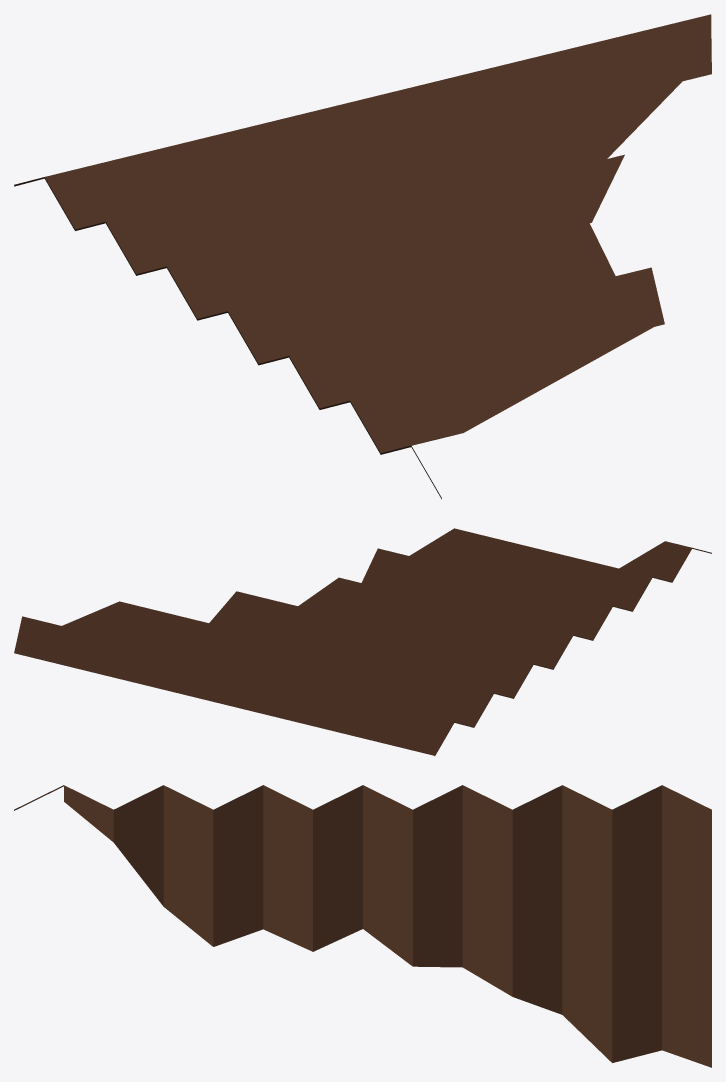
File: scrap1.fbx
3 renders of one model, top to bottom at view 1: azimuth 30°, elevation 25°; view 2: azimuth 150°, elevation 25°; view 3: azimuth 270°, elevation 25°, orthographic. The views are drawn at different scales.
Visible parts, largest first — view 1: part2; view 2: part2; view 3: part2.
Boxes of the visible parts, left/top/right/bottom form: part2: left=14, top=14, right=711, bottom=499; part2: left=14, top=528, right=711, bottom=756; part2: left=14, top=785, right=711, bottom=1067.
Bounding box in the file's own units: 42.07 × 1.92 × 46.77.
